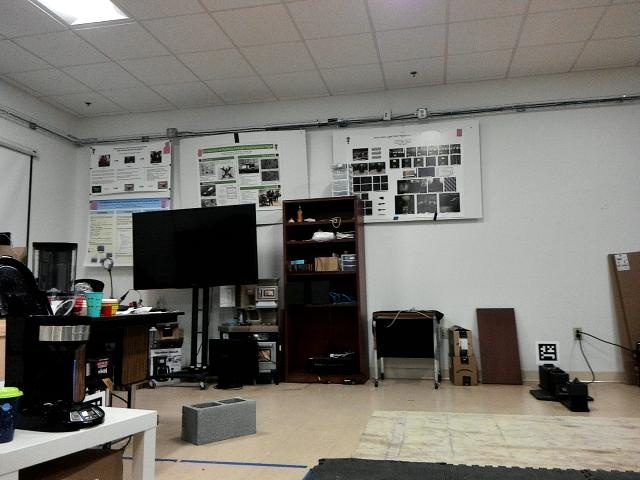coffee_cup: (85, 291, 102, 320)
water_cup: (1, 386, 22, 444)
